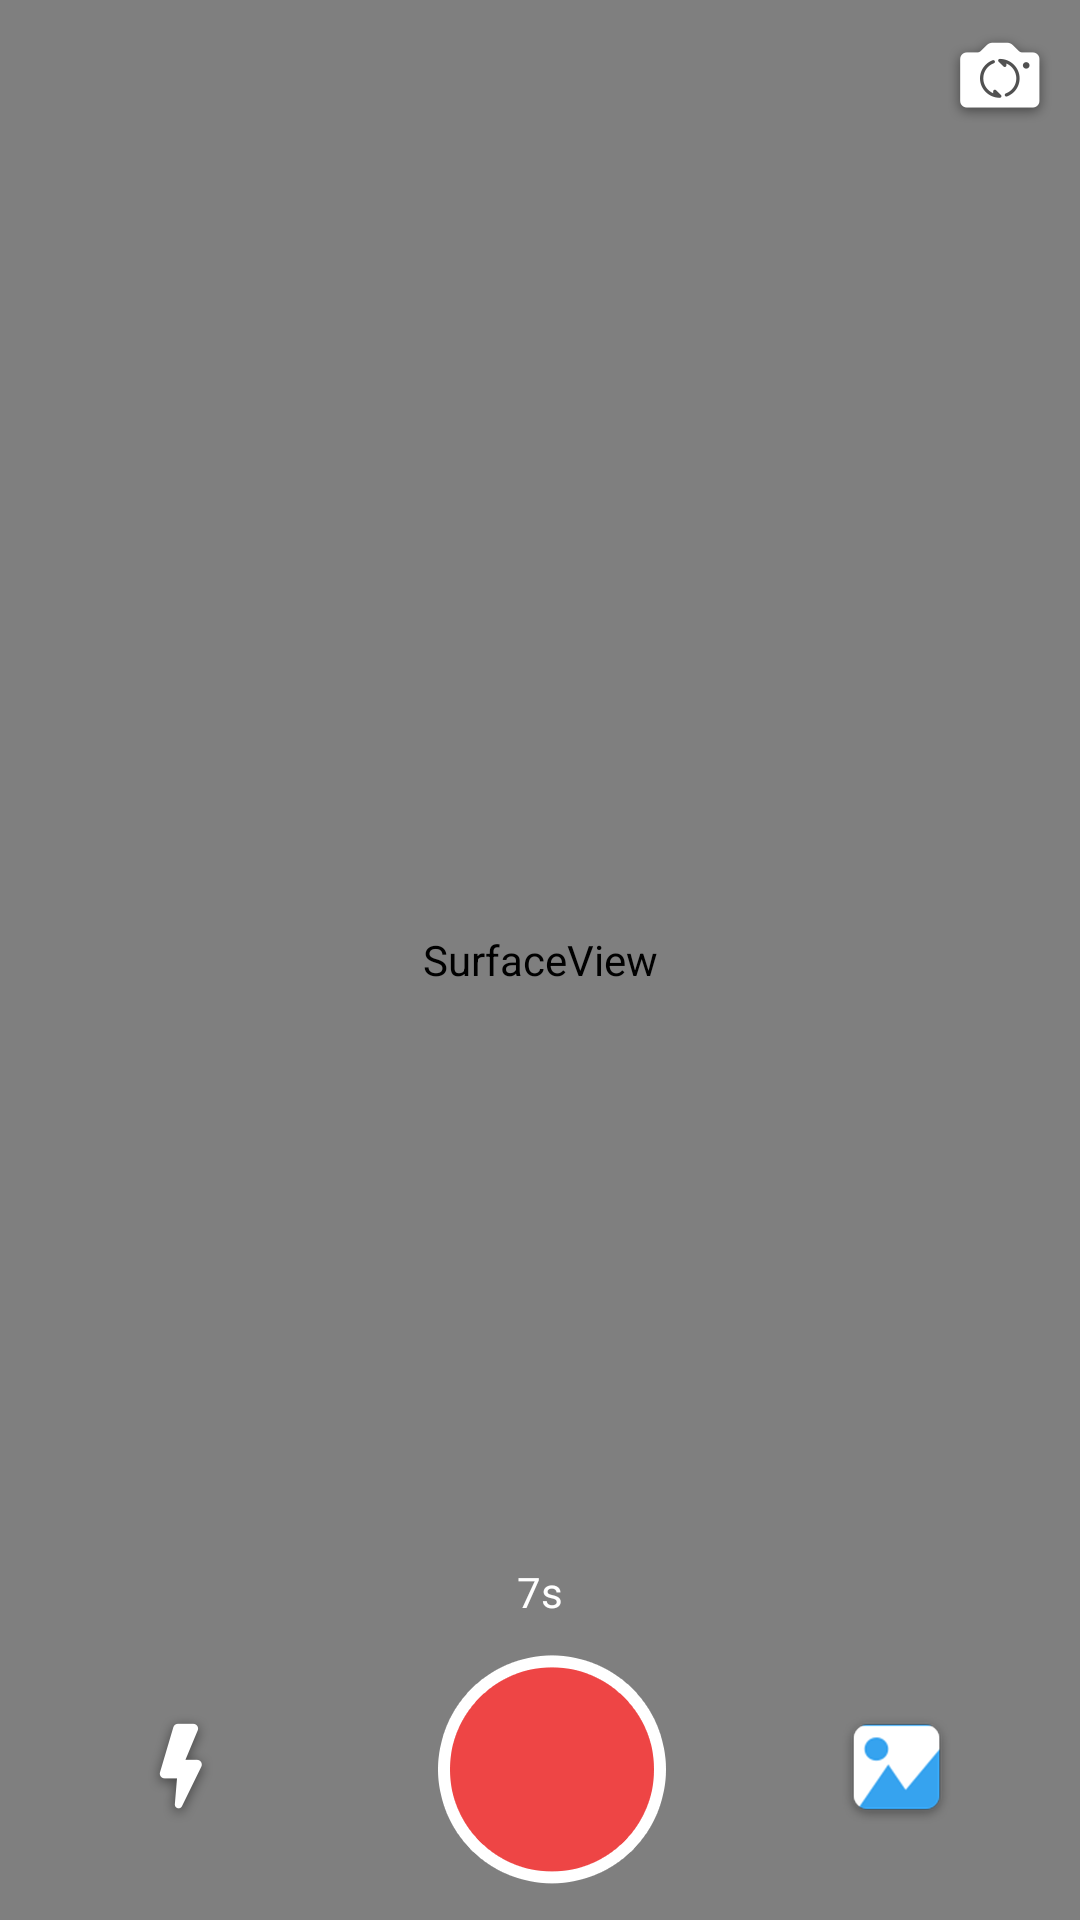

Point at icon controls on the screen. Image size 1080 × 1920, points as [x,y].
camera flash: [181,1766]
camera flip: [1000,77]
camera gallery: [897,1768]
camera push to record: [552,1769]
